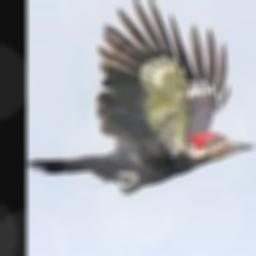Woodpecker: (27, 0, 256, 194)
